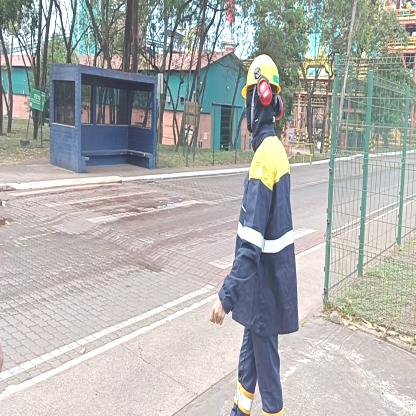Balaclava: (246, 88, 274, 132)
C_eletrica: (222, 148, 301, 333)
Capacete: (242, 51, 281, 87)
